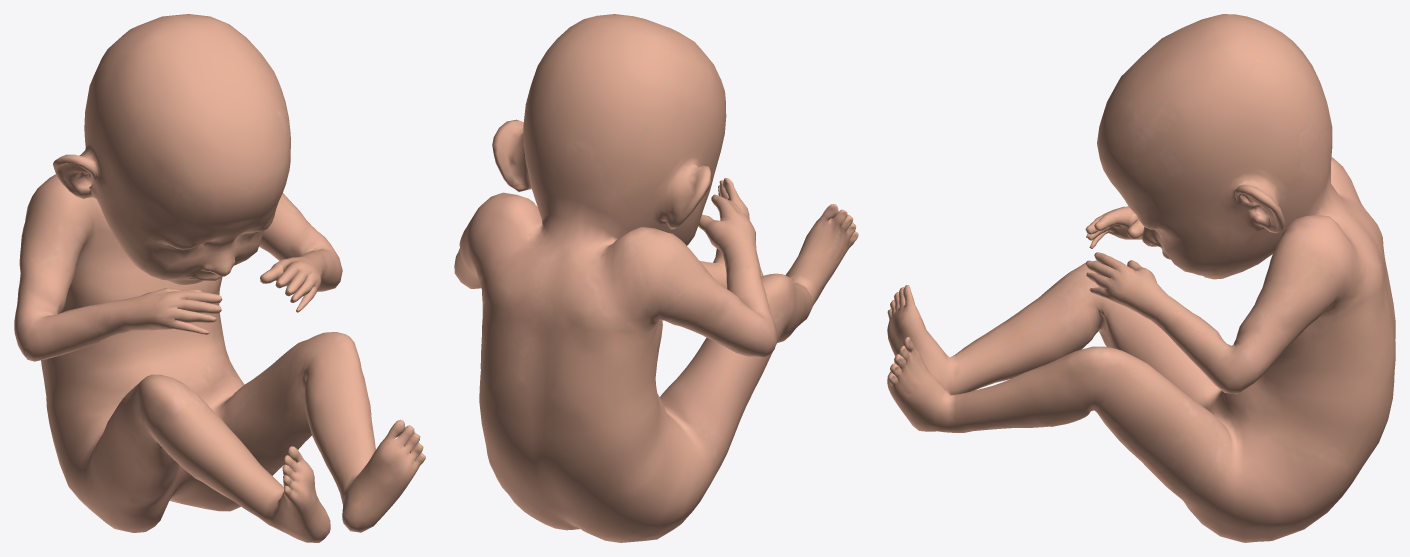
File: pb-w34.8beed4b4.glb
3 views of the same model, side by side, from view 1: azimuth 30°, elevation 25°; view 2: azimuth 150°, elevation 25°; view 3: azimuth 270°, elevation 25° (orthographic).
Visible parts, largest first — view 1: Baby; view 2: Baby; view 3: Baby.
Boxes of the visible parts, x1,y1,x2,y2 form: Baby: [14, 14, 425, 542]; Baby: [454, 14, 858, 542]; Baby: [887, 14, 1395, 542].
Bounding box in the file's own units: 0.2178 × 0.3283 × 0.3049.
Materials: 1 (1 with a texture image).
